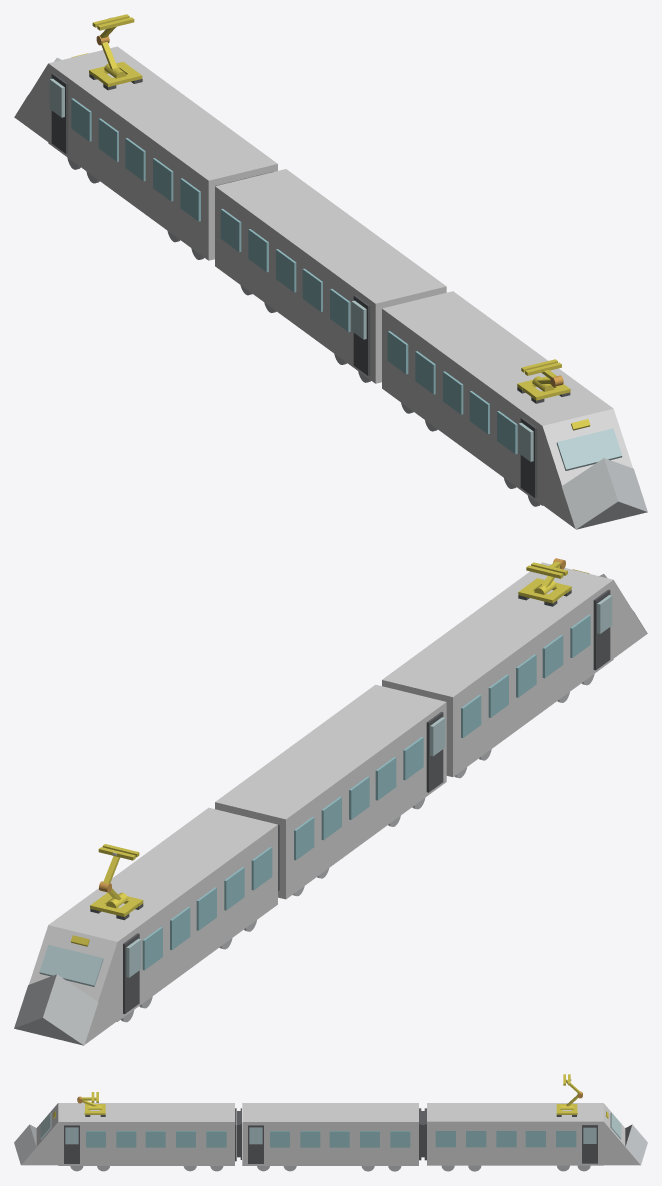
Rendered from train.glb.
3 renders of one model, top to bottom at view 1: azimuth 30°, elevation 25°; view 2: azimuth 150°, elevation 25°; view 3: azimuth 270°, elevation 25°, orthographic. The views are drawn at different scales.
Parts seen in each view (by area): view 1: Mesh_Mesh_head_geo.001_lambert2SG.001; view 2: Mesh_Mesh_head_geo.001_lambert2SG.001; view 3: Mesh_Mesh_head_geo.001_lambert2SG.001.
Boxes of the visible parts, x1=… form: Mesh_Mesh_head_geo.001_lambert2SG.001: x1=14, y1=14, x2=647, y2=529; Mesh_Mesh_head_geo.001_lambert2SG.001: x1=14, y1=558, x2=647, y2=1045; Mesh_Mesh_head_geo.001_lambert2SG.001: x1=14, y1=1074, x2=647, y2=1171.
Size of the model in its own units: 75 by 140 by 951.
